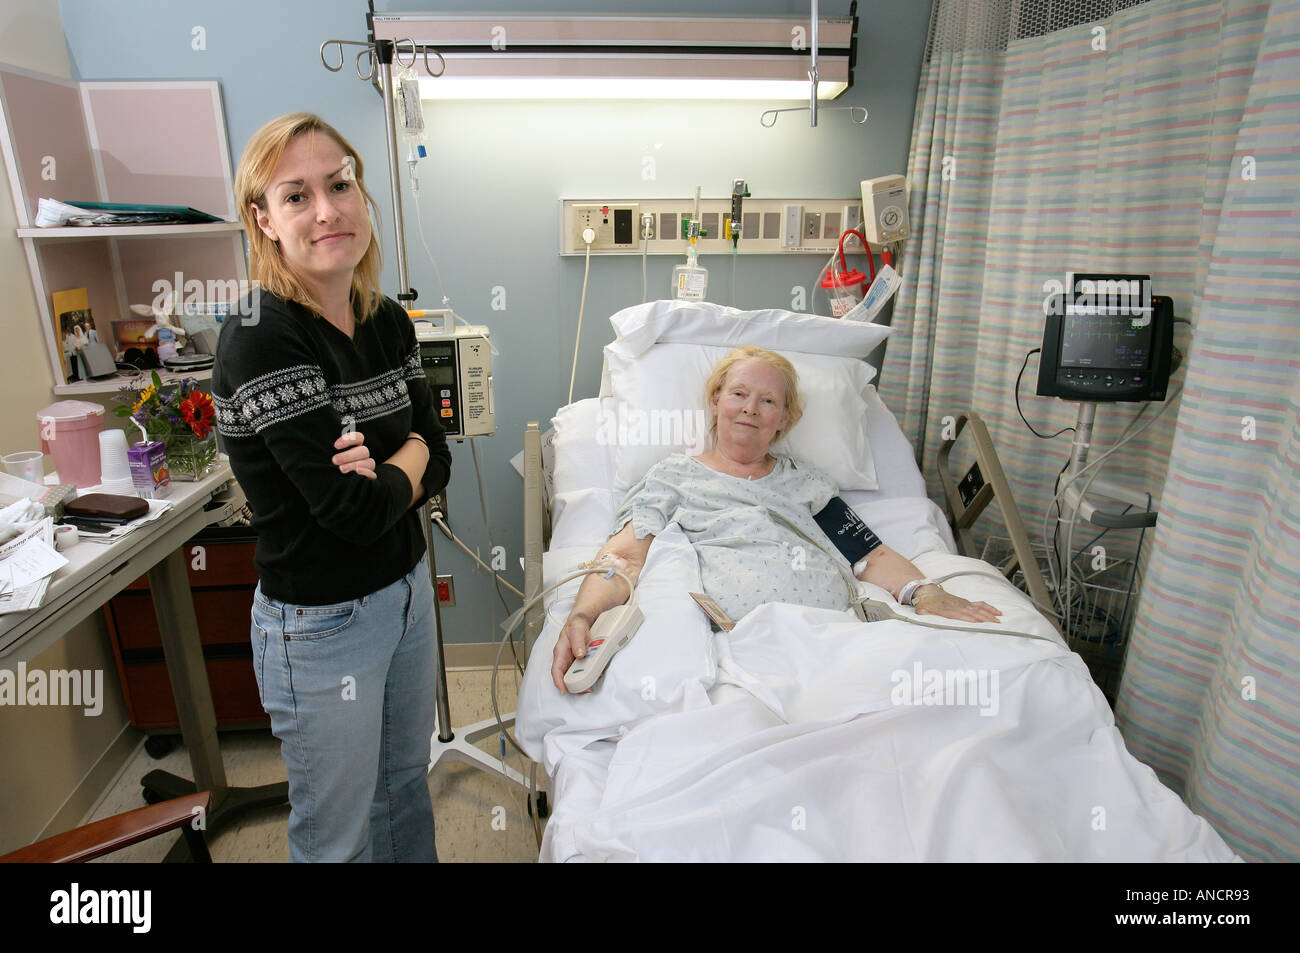visitor: (125, 76, 565, 868)
